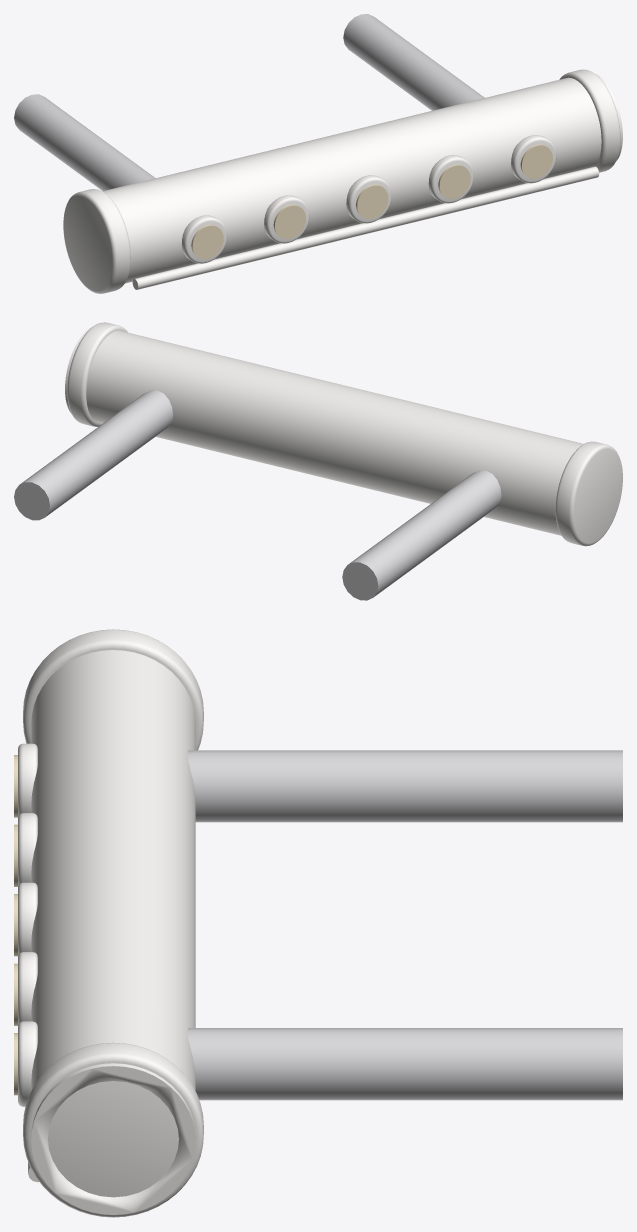
The picture shows the model from 3 angles, top to bottom: view 1: azimuth 30°, elevation 25°; view 2: azimuth 150°, elevation 25°; view 3: azimuth 270°, elevation 25°; orthographic projection. The views are drawn at different scales.
Visible parts, largest first — view 1: flute_default; view 2: flute_default; view 3: flute_default.
Part boxes in pixels (bbox=[...]): flute_default: bbox=[14, 14, 622, 293]; flute_default: bbox=[14, 322, 622, 600]; flute_default: bbox=[14, 629, 622, 1217].
Bounding box in the file's own units: 0.621 × 0.11 × 0.3705.
